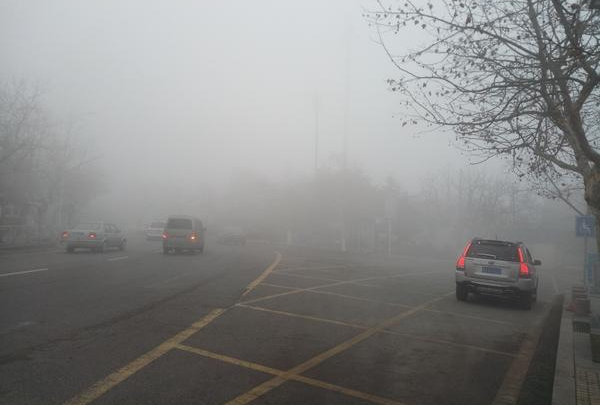car: (455, 237, 542, 310), (62, 220, 127, 254), (162, 215, 207, 256), (217, 226, 246, 245), (145, 222, 166, 241)
